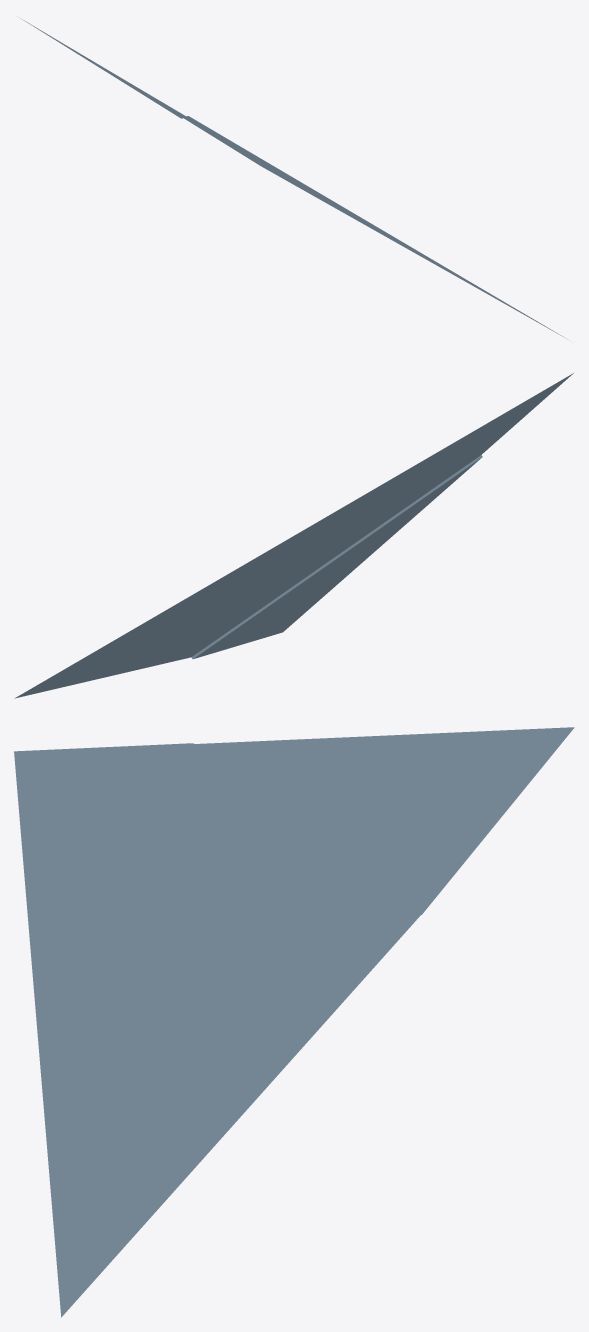
3 renders of one model, top to bottom at view 1: azimuth 30°, elevation 25°; view 2: azimuth 150°, elevation 25°; view 3: azimuth 270°, elevation 25°, orthographic. The views are drawn at different scales.
Bounding box in the file's own units: 139 × 99.89 × 142.
